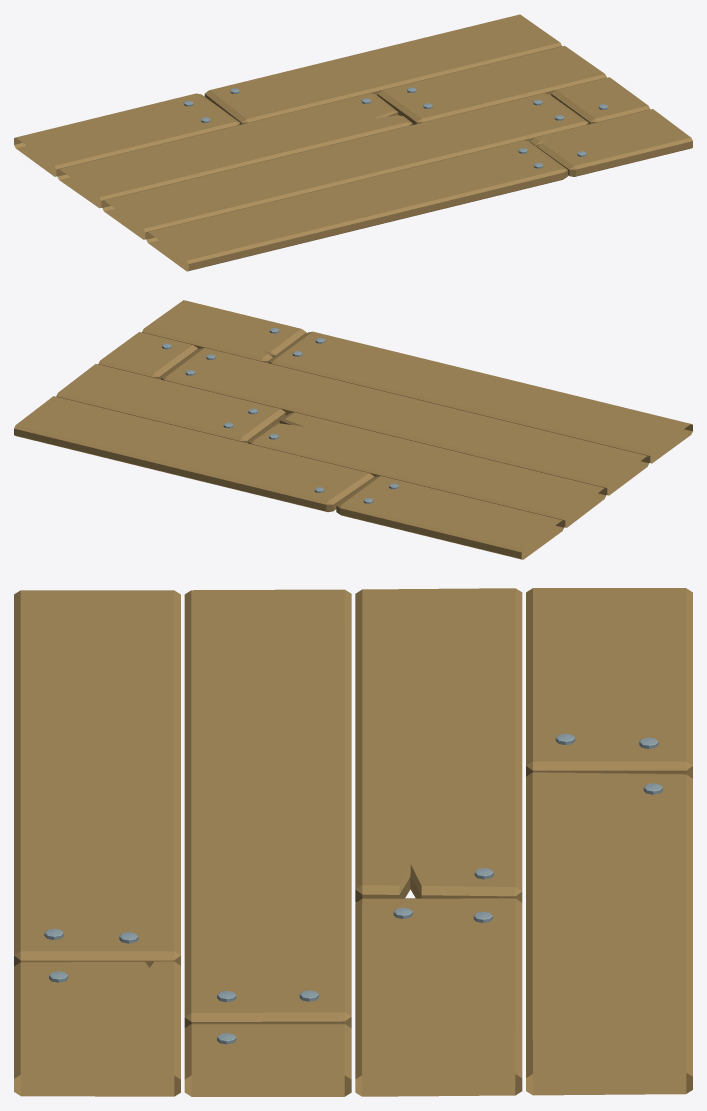
File: Floor_type1_FIX.fbx
3 views of the same model, one above another, from view 1: azimuth 30°, elevation 25°; view 2: azimuth 150°, elevation 25°; view 3: azimuth 270°, elevation 25° (orthographic). The views are drawn at different scales.
Visible parts, largest first — view 1: board nail and cut.003; view 2: board nail and cut.003; view 3: board nail and cut.003.
Part boxes in pixels (left/top/right/bottom): board nail and cut.003: left=14, top=14, right=692, bottom=271; board nail and cut.003: left=14, top=300, right=692, bottom=559; board nail and cut.003: left=14, top=588, right=692, bottom=1096.
Bounding box in the file's own units: 283 × 7.02 × 167.
